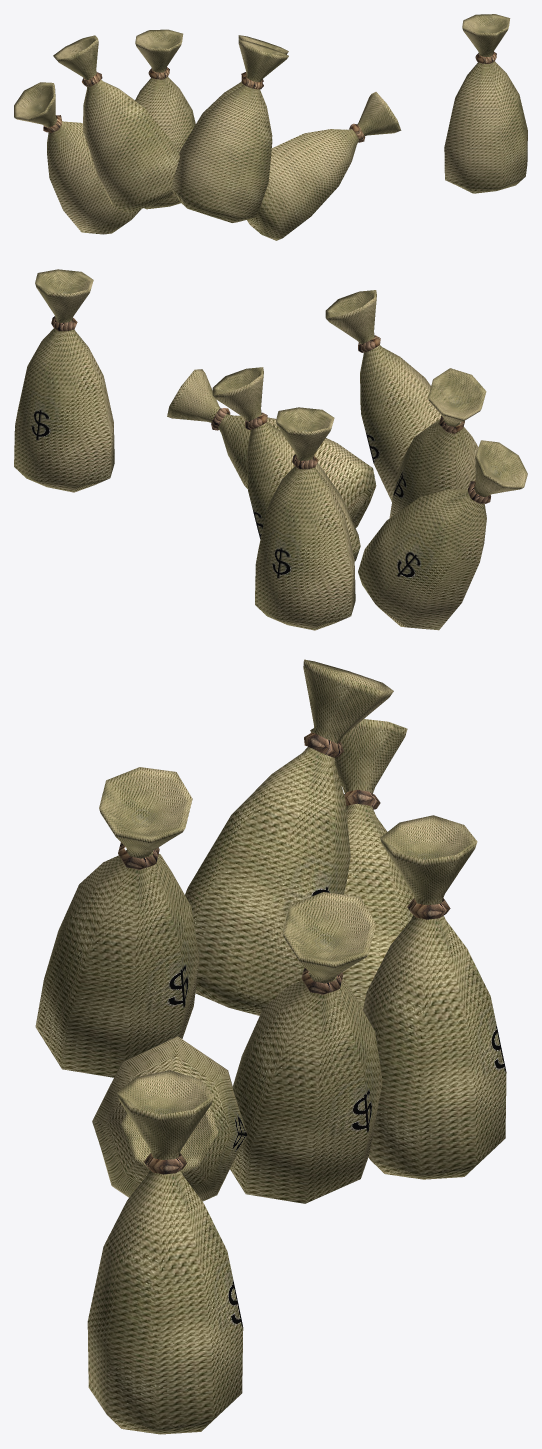
Rendered from Bolsas de Dinero (Texturizadas).FBX.
The picture shows the model from 3 angles, top to bottom: view 1: azimuth 30°, elevation 25°; view 2: azimuth 150°, elevation 25°; view 3: azimuth 270°, elevation 25°; orthographic projection. The views are drawn at different scales.
Parts seen in each view (by area): view 1: Bolsa Dinero006, Bolsa Dinero, Bolsa Dinero003, Bolsa Dinero005, Bolsa Dinero002, Bolsa Dinero001, Bolsa Dinero004; view 2: Bolsa Dinero002, Bolsa Dinero001, Bolsa Dinero, Bolsa Dinero006, Bolsa Dinero003, Bolsa Dinero005, Bolsa Dinero004; view 3: Bolsa Dinero, Bolsa Dinero001, Bolsa Dinero006, Bolsa Dinero004, Bolsa Dinero003, Bolsa Dinero005, Bolsa Dinero002.
Boxes of the visible parts, bbox=[...] form: Bolsa Dinero006: bbox=[170, 39, 288, 222]; Bolsa Dinero: bbox=[444, 14, 527, 193]; Bolsa Dinero003: bbox=[53, 35, 179, 212]; Bolsa Dinero005: bbox=[247, 92, 401, 240]; Bolsa Dinero002: bbox=[14, 82, 141, 234]; Bolsa Dinero001: bbox=[135, 29, 195, 209]; Bolsa Dinero004: bbox=[179, 35, 288, 156]; Bolsa Dinero002: bbox=[358, 440, 527, 630]; Bolsa Dinero001: bbox=[255, 407, 355, 630]; Bolsa Dinero: bbox=[14, 269, 114, 492]; Bolsa Dinero006: bbox=[325, 290, 441, 501]; Bolsa Dinero003: bbox=[389, 368, 486, 518]; Bolsa Dinero005: bbox=[167, 369, 376, 527]; Bolsa Dinero004: bbox=[212, 367, 360, 561]; Bolsa Dinero: bbox=[87, 1070, 243, 1434]; Bolsa Dinero001: bbox=[363, 815, 506, 1179]; Bolsa Dinero006: bbox=[35, 767, 199, 1077]; Bolsa Dinero004: bbox=[230, 892, 382, 1203]; Bolsa Dinero003: bbox=[185, 659, 393, 1015]; Bolsa Dinero005: bbox=[92, 1036, 247, 1201]; Bolsa Dinero002: bbox=[310, 719, 414, 1009].
Bounding box in the file's own units: 133 × 57.51 × 58.84.
3 materials, 3 textured.
